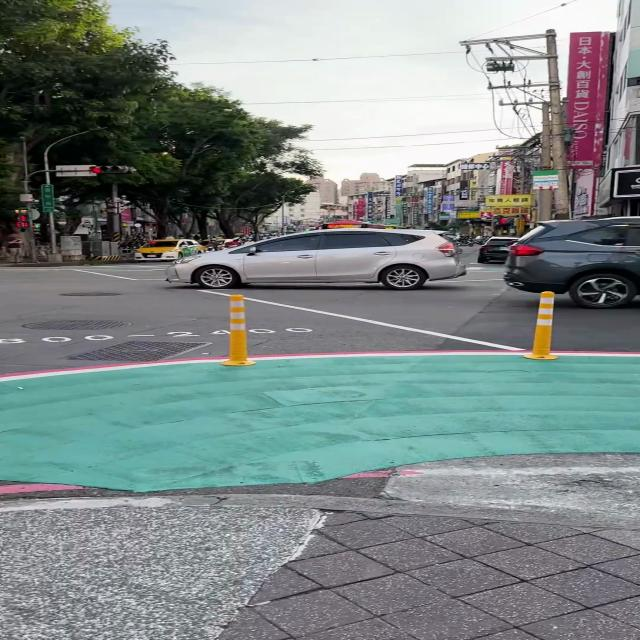Flexible_delineator_post: (221, 295, 256, 366), (523, 291, 558, 360)
car: (165, 229, 465, 289), (503, 216, 640, 309), (135, 239, 205, 261), (476, 236, 518, 262)
